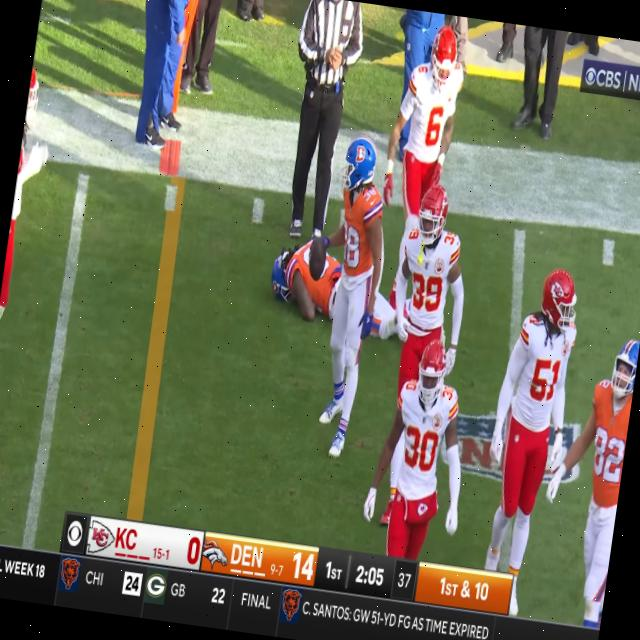Player: (304, 132, 410, 472), (481, 260, 588, 578), (376, 337, 470, 562), (568, 334, 640, 624), (396, 180, 473, 347), (397, 25, 473, 184), (260, 234, 344, 312)
Referee: (272, 0, 368, 244)
